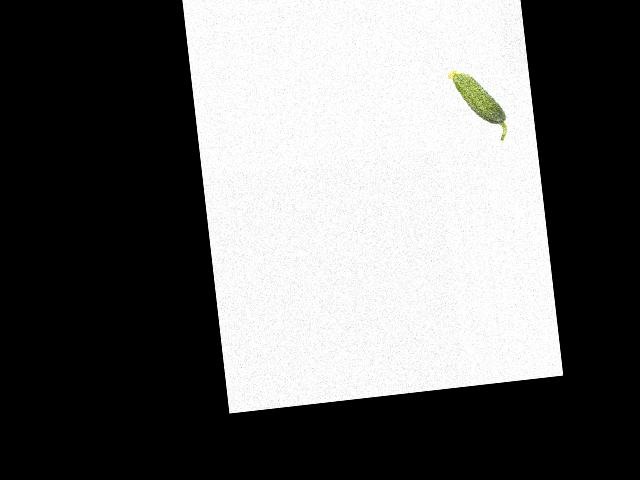cucumber: (446, 64, 508, 145)
